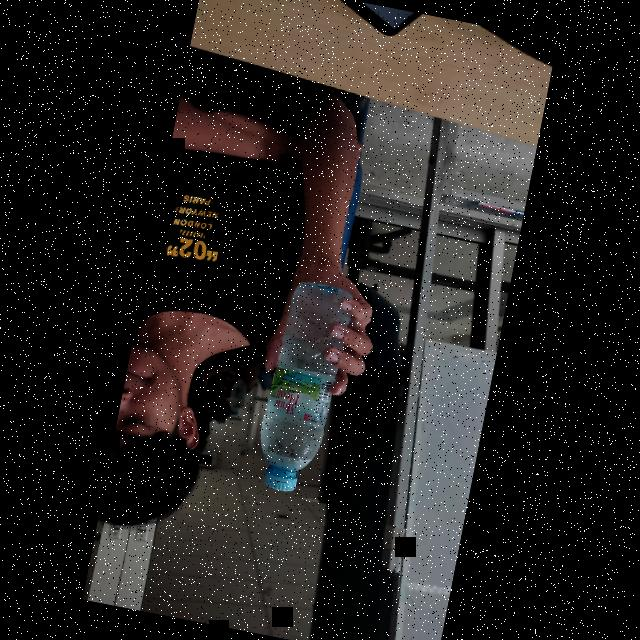plastic_bottle: (250, 268, 362, 505)
